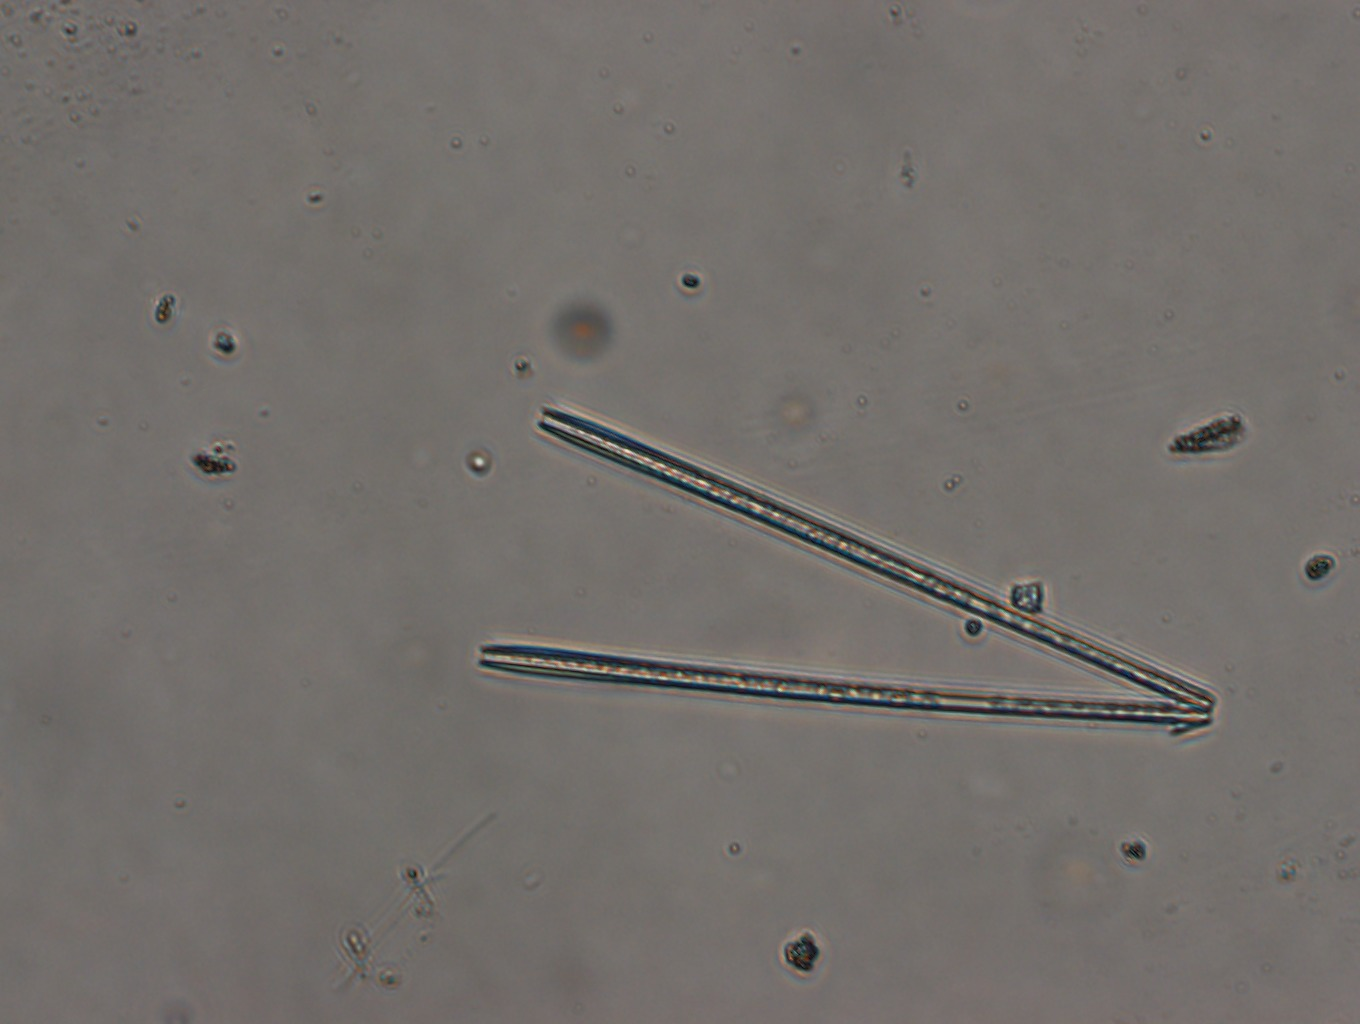thalassionema frauenfeldii: (477, 403, 1215, 725)
